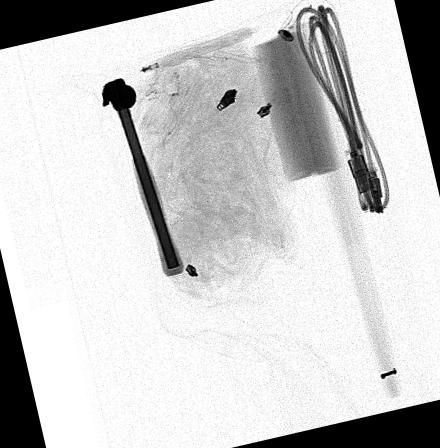Hammer: (100, 78, 184, 277)
